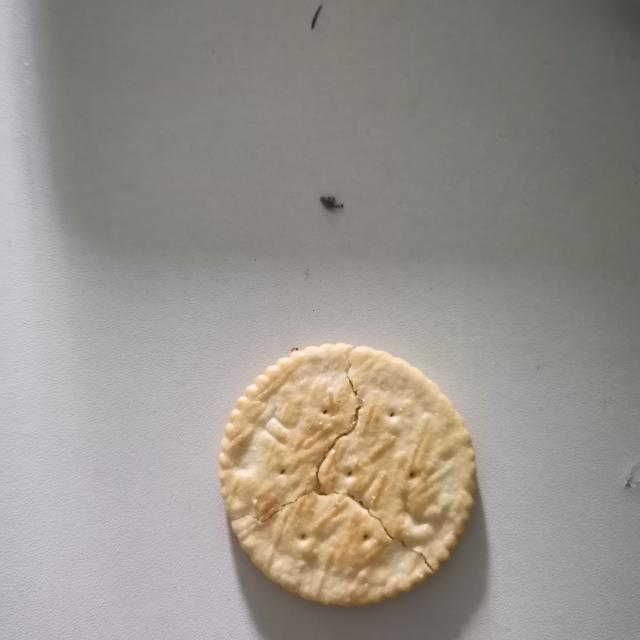Fracture: (234, 338, 444, 577)
